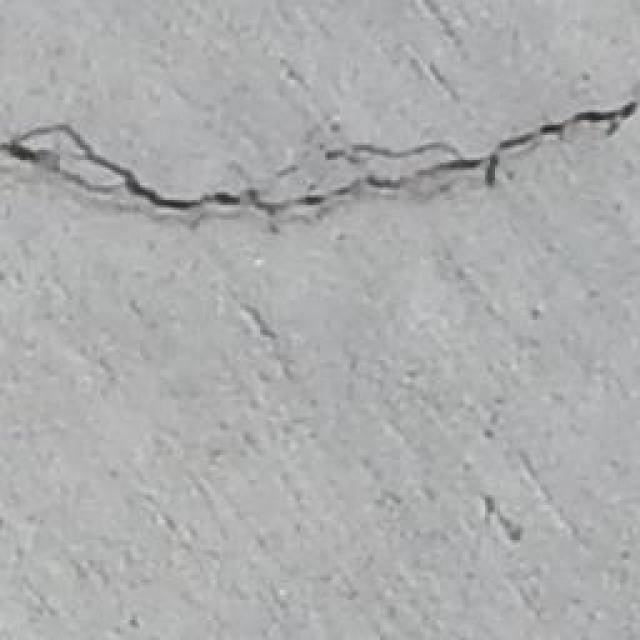concrete-crack: (10, 82, 638, 228)
